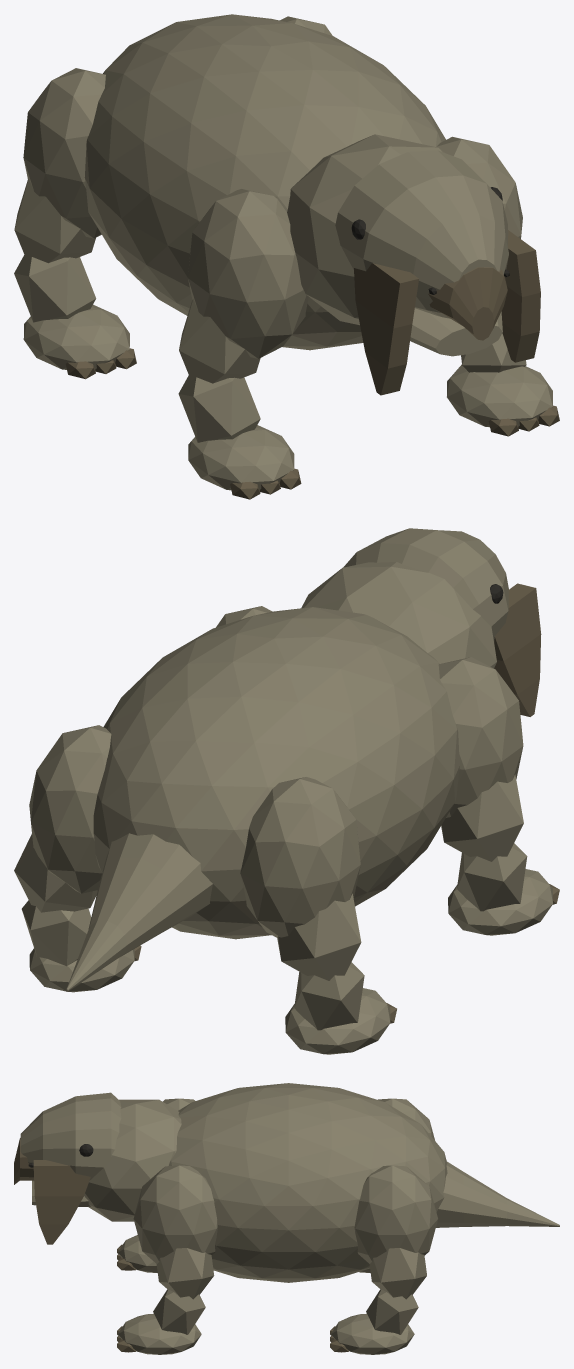
3 views of the same model, one above another, from view 1: azimuth 30°, elevation 25°; view 2: azimuth 150°, elevation 25°; view 3: azimuth 270°, elevation 25° (orthographic). The views are drawn at different scales.
Visible parts, largest first — view 1: surface_clay_olive, surface_beak_caniniform; view 2: surface_clay_olive, surface_beak_caniniform; view 3: surface_clay_olive, surface_beak_caniniform.
Part boxes in pixels (x1,y1,x2,y2): surface_clay_olive: [14, 14, 552, 490]; surface_beak_caniniform: [65, 230, 559, 499]; surface_clay_olive: [14, 528, 552, 1054]; surface_beak_caniniform: [134, 583, 559, 1023]; surface_clay_olive: [20, 1083, 559, 1354]; surface_beak_caniniform: [14, 1138, 348, 1352].
Bounding box in the file's own units: 0.472 × 0.434 × 1.
